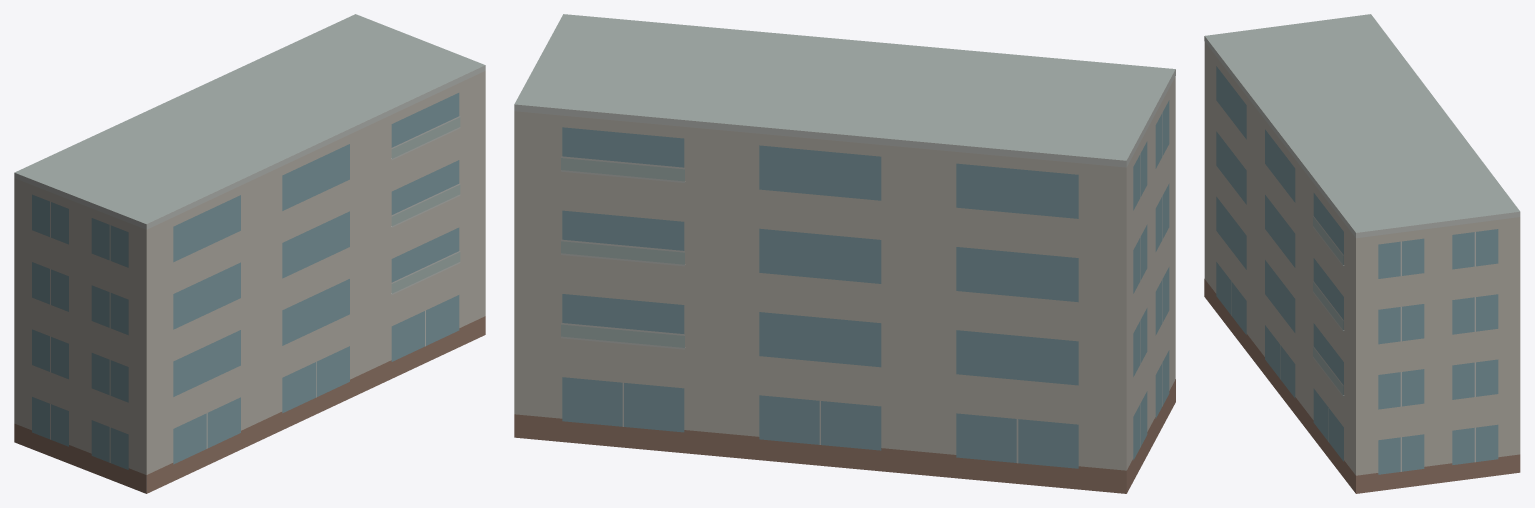
Rendered from survey-upis-32617780.glb.
3 views of the same model, side by side, from view 1: azimuth 30°, elevation 25°; view 2: azimuth 150°, elevation 25°; view 3: azimuth 270°, elevation 25° (orthographic). The views are drawn at different scales.
Visible parts, largest first — view 1: survey-upis-32617780.tmp; view 2: survey-upis-32617780.tmp; view 3: survey-upis-32617780.tmp.
Boxes of the visible parts, box(x1,y1,x2,y2) form: survey-upis-32617780.tmp: box(14, 14, 485, 493); survey-upis-32617780.tmp: box(514, 14, 1175, 493); survey-upis-32617780.tmp: box(1204, 14, 1520, 493).
Bounding box in the file's own units: 21.42 × 11.9 × 13.07.
